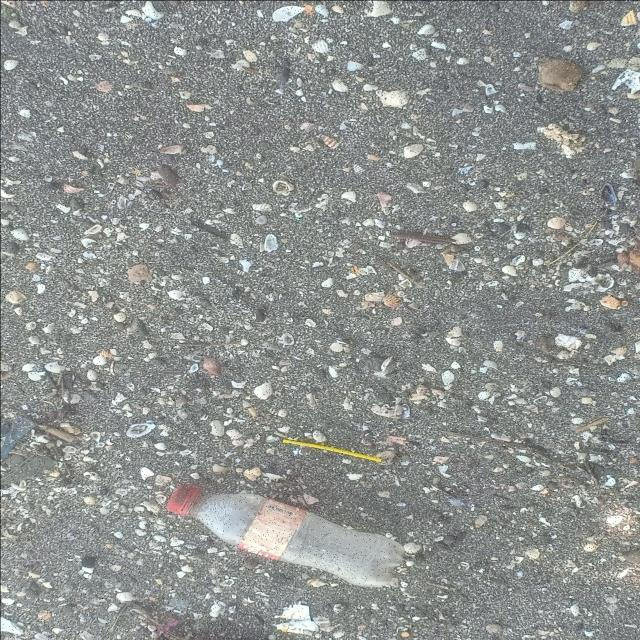plastic_waste: (166, 484, 406, 590), (283, 439, 384, 463)
